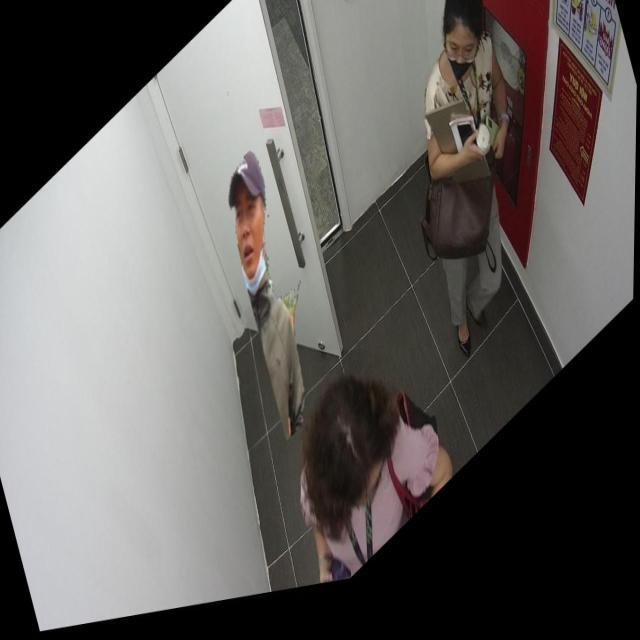hairnet: (227, 197, 277, 312)
